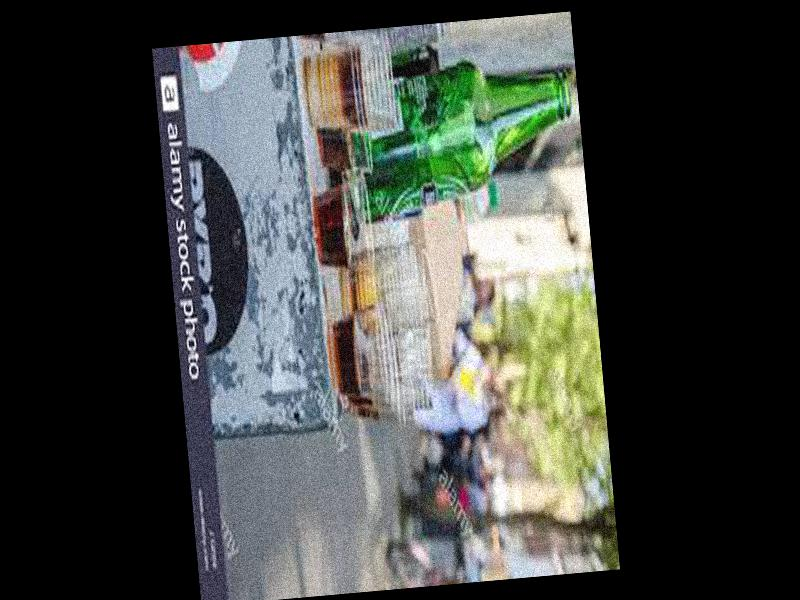Beer: (326, 50, 580, 229)
